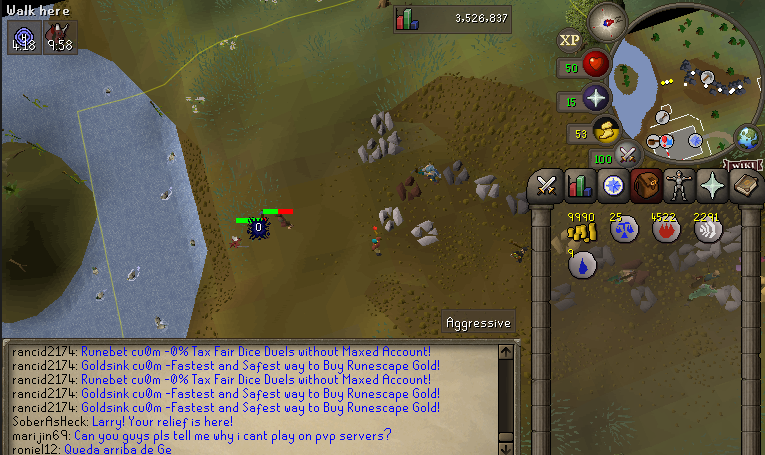depleted: (442, 155, 470, 189), (505, 186, 529, 217)
iron: (394, 172, 424, 206)
